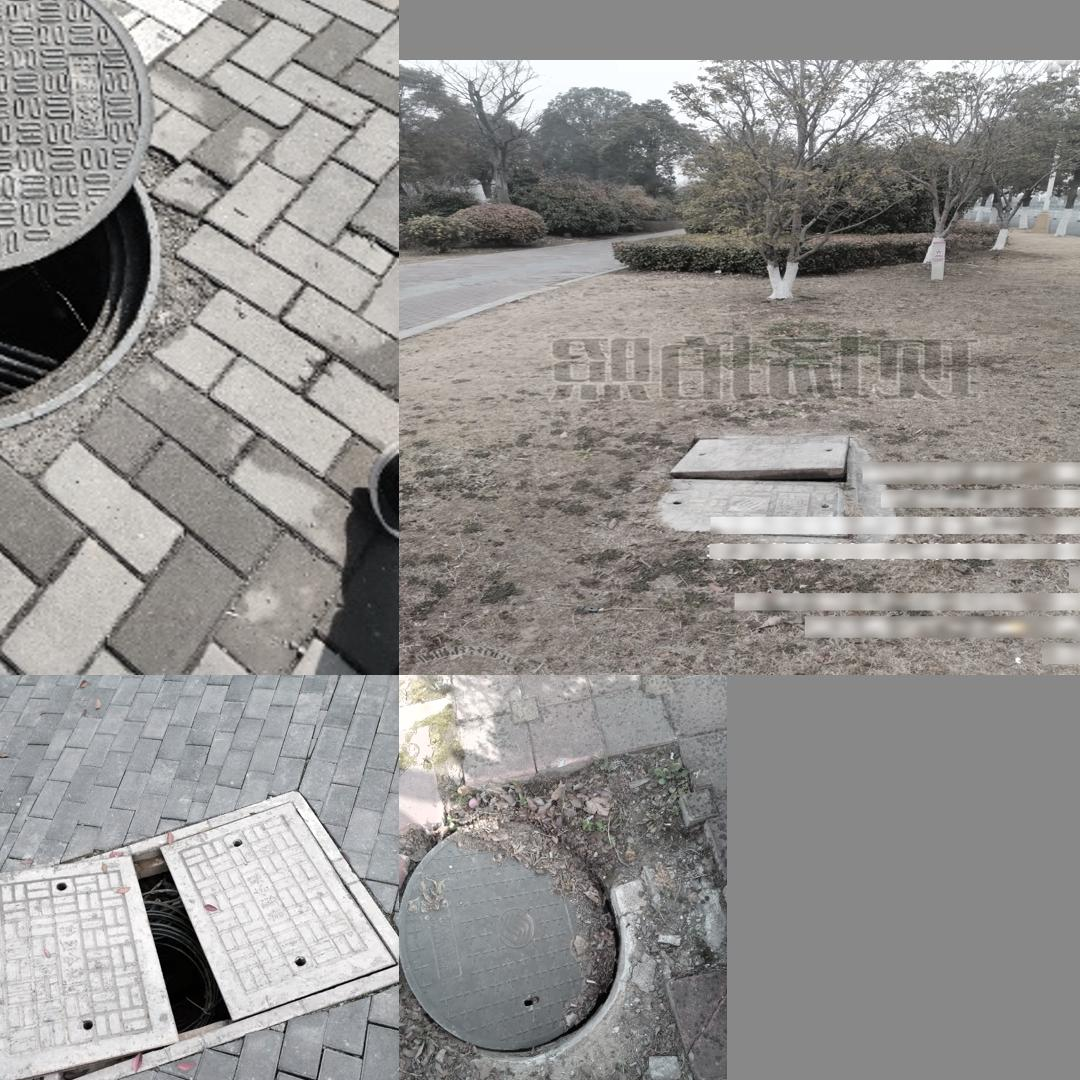uncovered: (0, 789, 396, 1080), (0, 0, 210, 434), (399, 807, 631, 1059), (640, 431, 858, 541)
